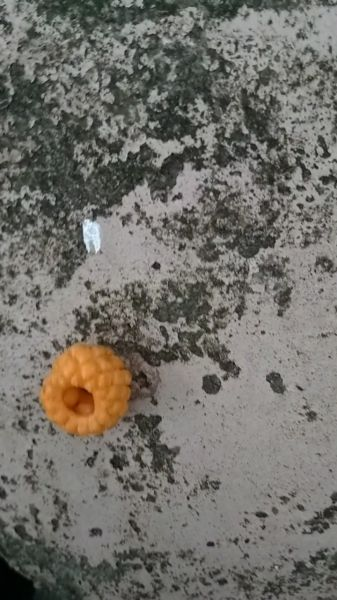eggs: (39, 340, 136, 447)
